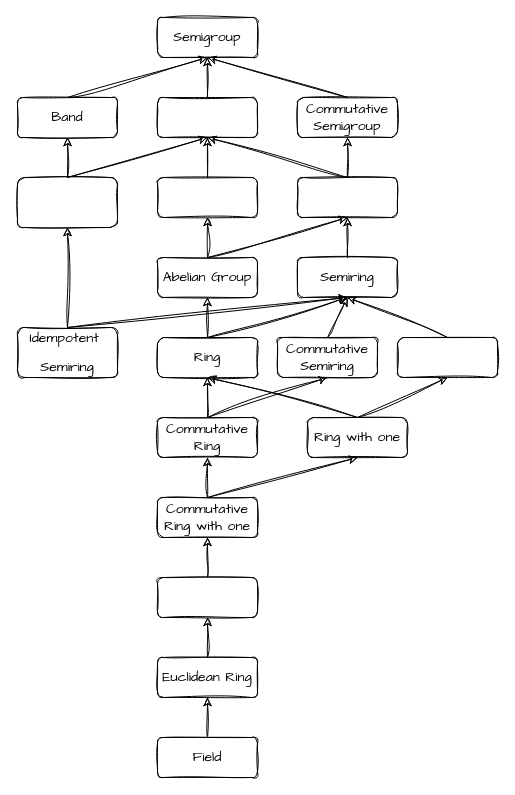
Image size: 515x795. Some labels were removed from this diagram. The shapes that lost their labels are listed below. From the top down, each one's centre as x and y in pixels, then its label:
point (207, 117): Monoid
point (67, 202): Idempotent Monoid
point (207, 197): Group
point (347, 197): Commutative Monoid
point (447, 357): Semiring with one
point (207, 597): GCDRing
